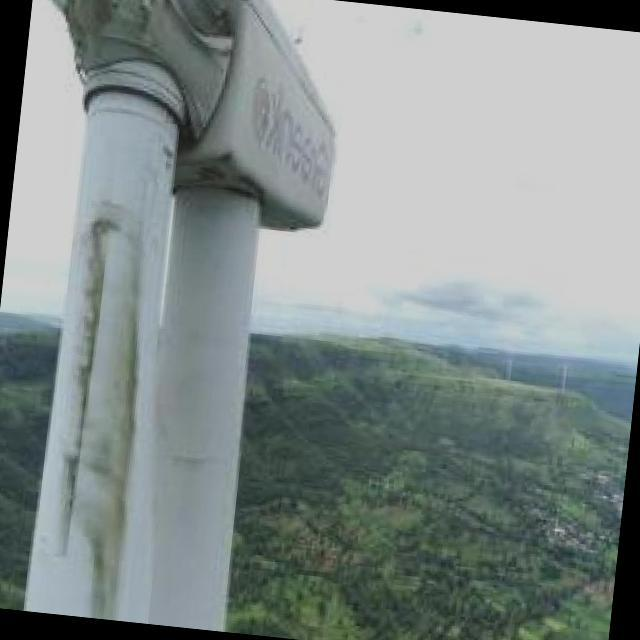Dirt: (56, 197, 149, 621)
